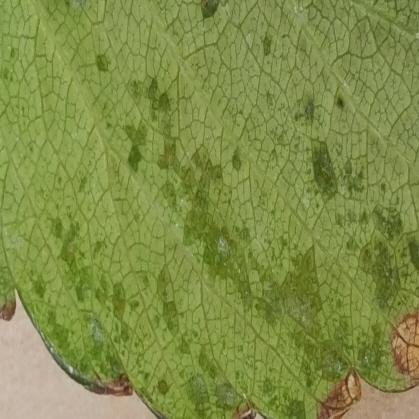Angular Leafspot: (0, 0, 418, 418)
